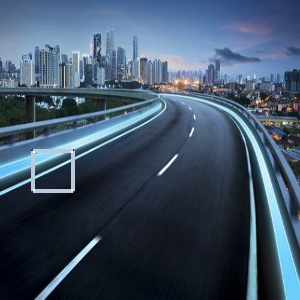square: (28, 146, 77, 195)
